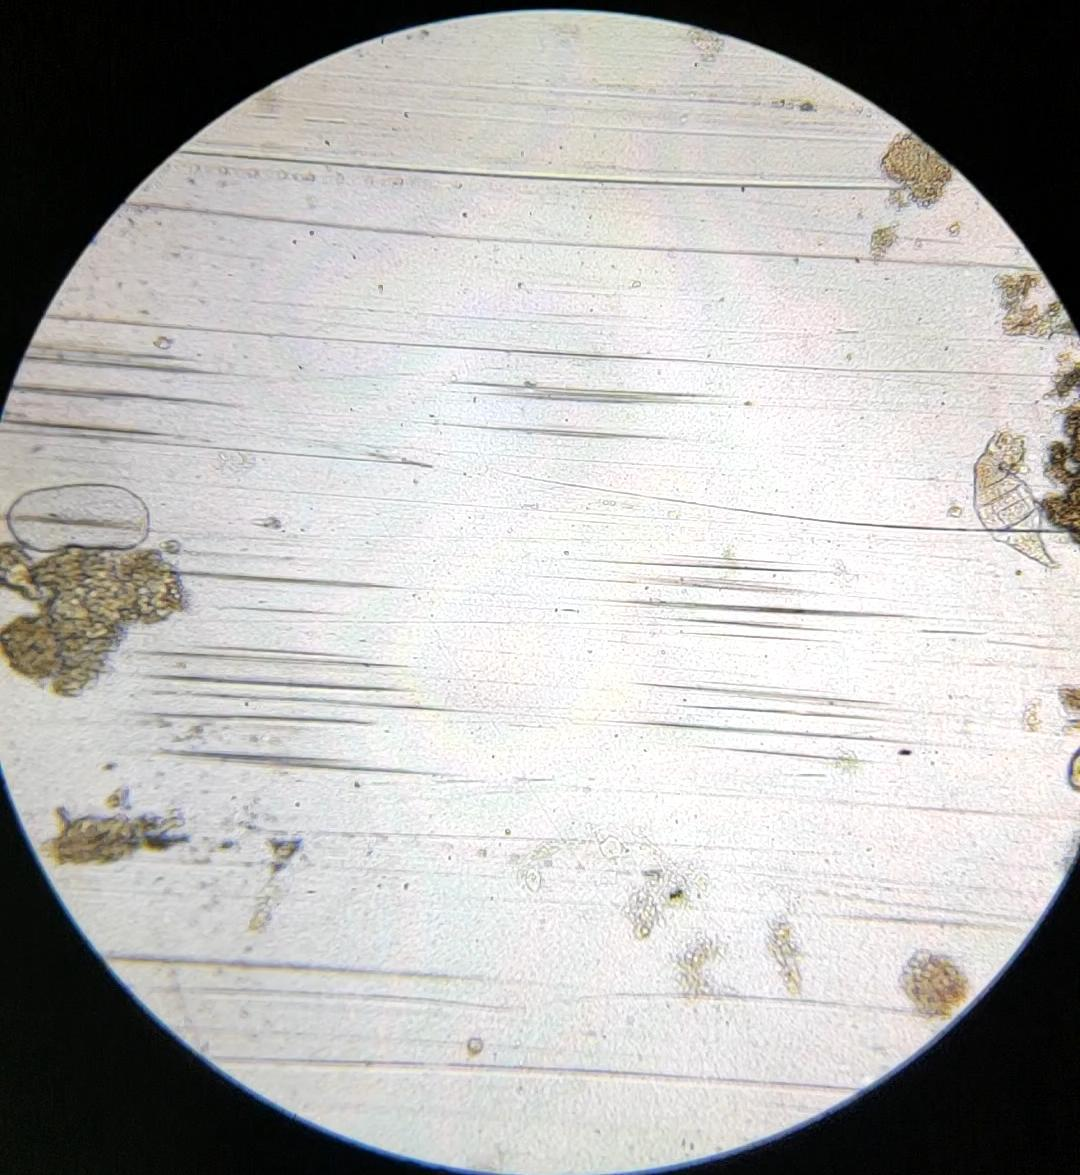Do: (973, 430, 1063, 572)
